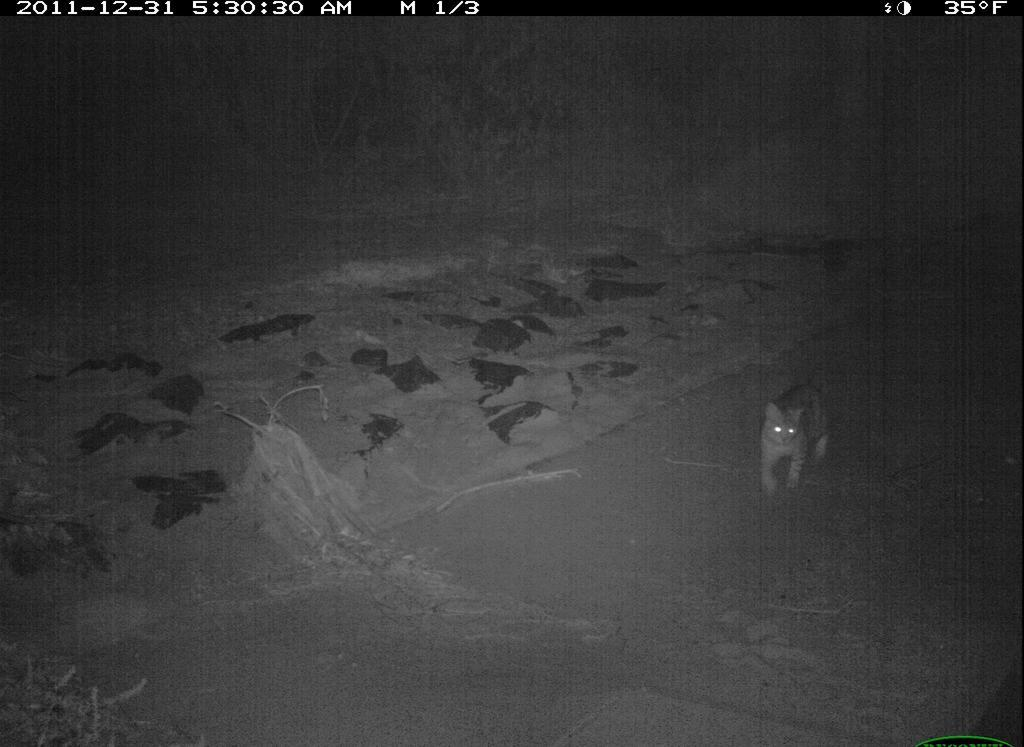cat: (739, 372, 852, 506)
